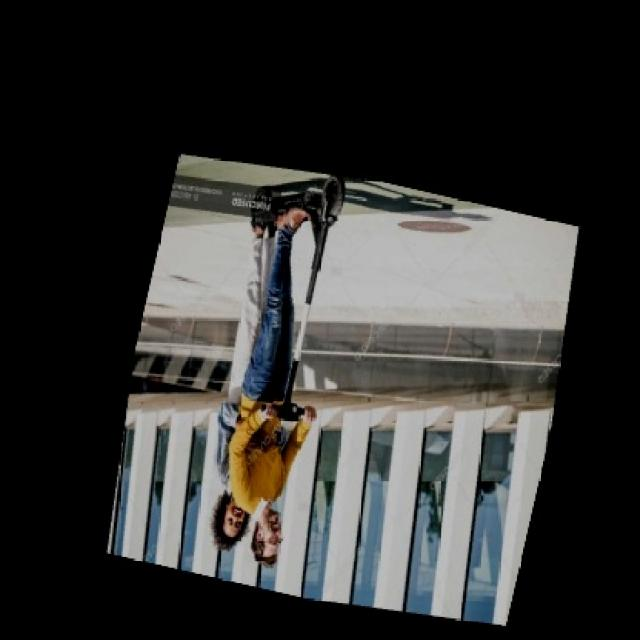bare_head: (241, 507, 284, 567), (207, 497, 250, 543)
human: (244, 203, 315, 564), (214, 211, 278, 546)
kickboard: (243, 170, 344, 229)
